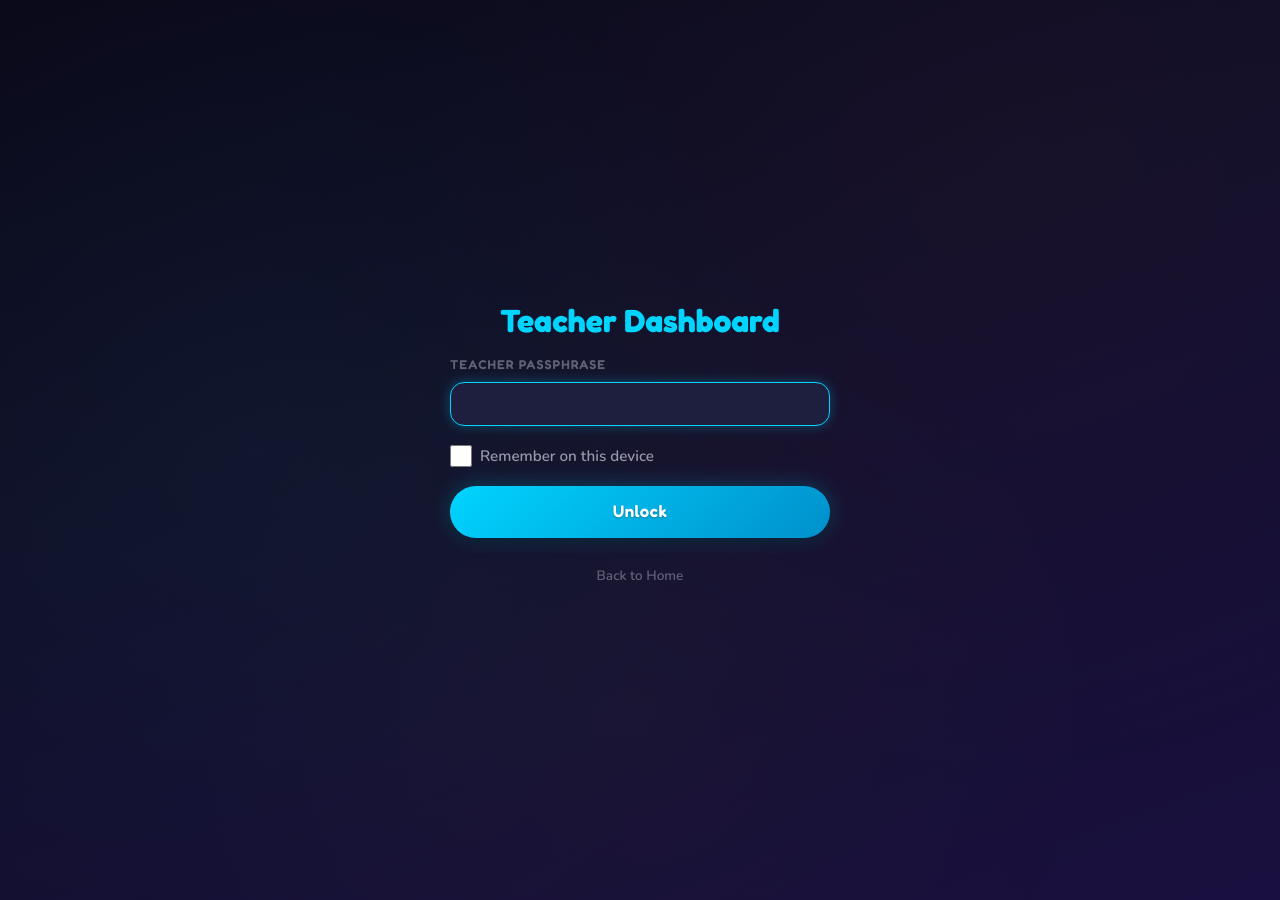
Test: TeacherMode — locked › shows the throttled message on a 429
Type "wrong-phrase" into the password field with class "teacher-gate-input" at (640, 404), box x1=450 y1=382 x2=830 y2=426
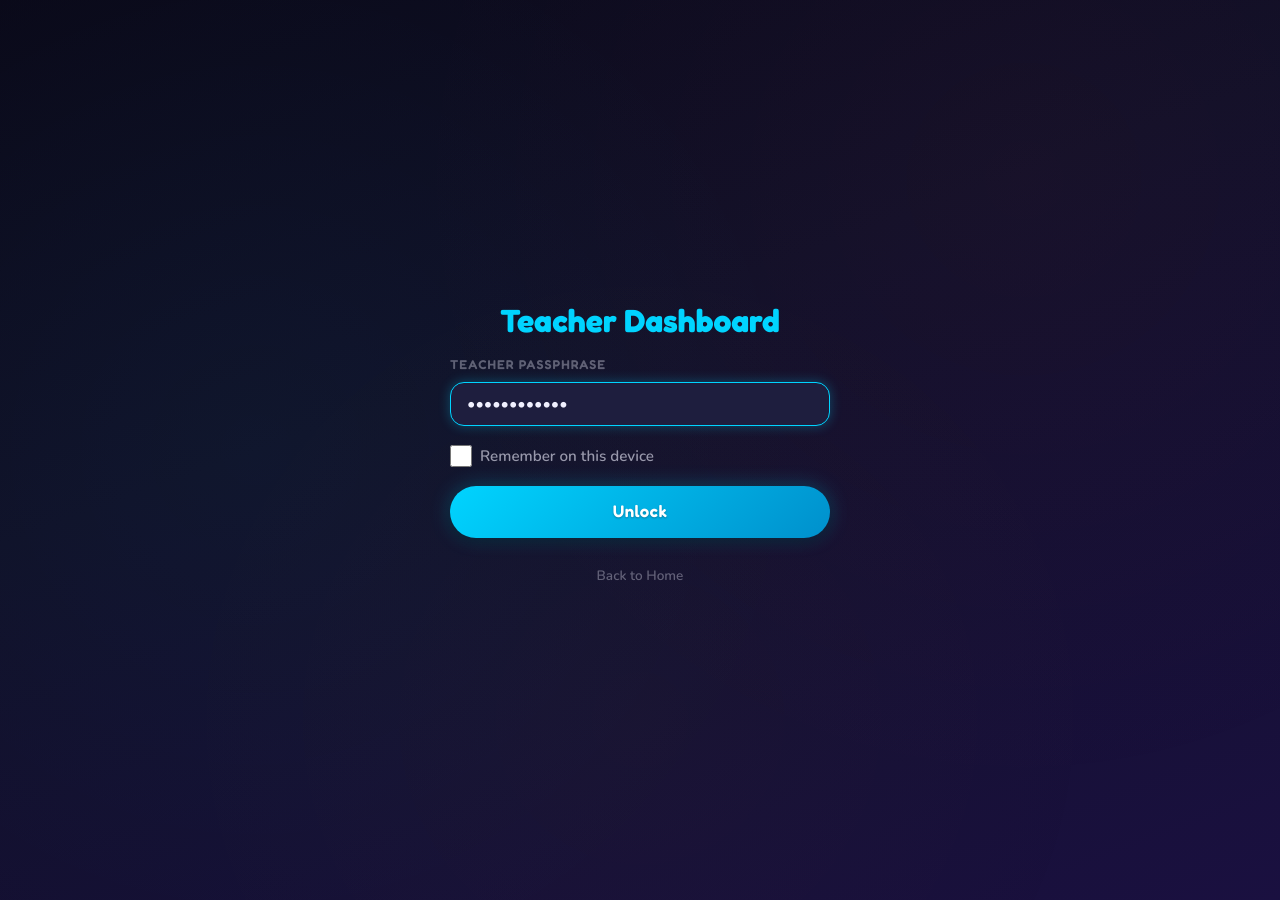
Submit the form with class "teacher-gate-form", box x1=450 y1=356 x2=830 y2=538
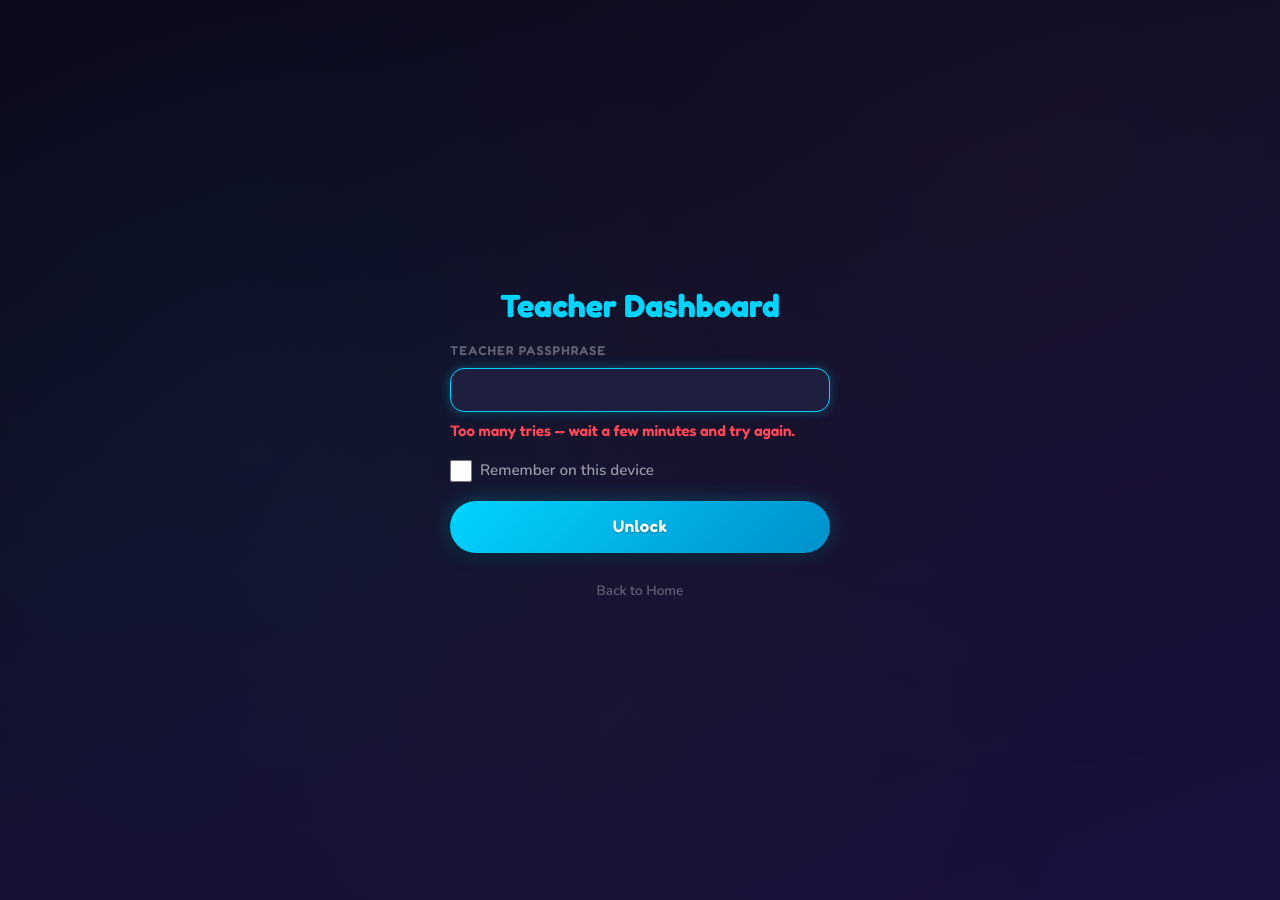
Now the message with class "teacher-gate-alert" reads "Too many tries — wait a few minutes and try again.", box x1=450 y1=421 x2=795 y2=440
Now the password field with class "teacher-gate-input" is empty, box x1=450 y1=368 x2=830 y2=412
